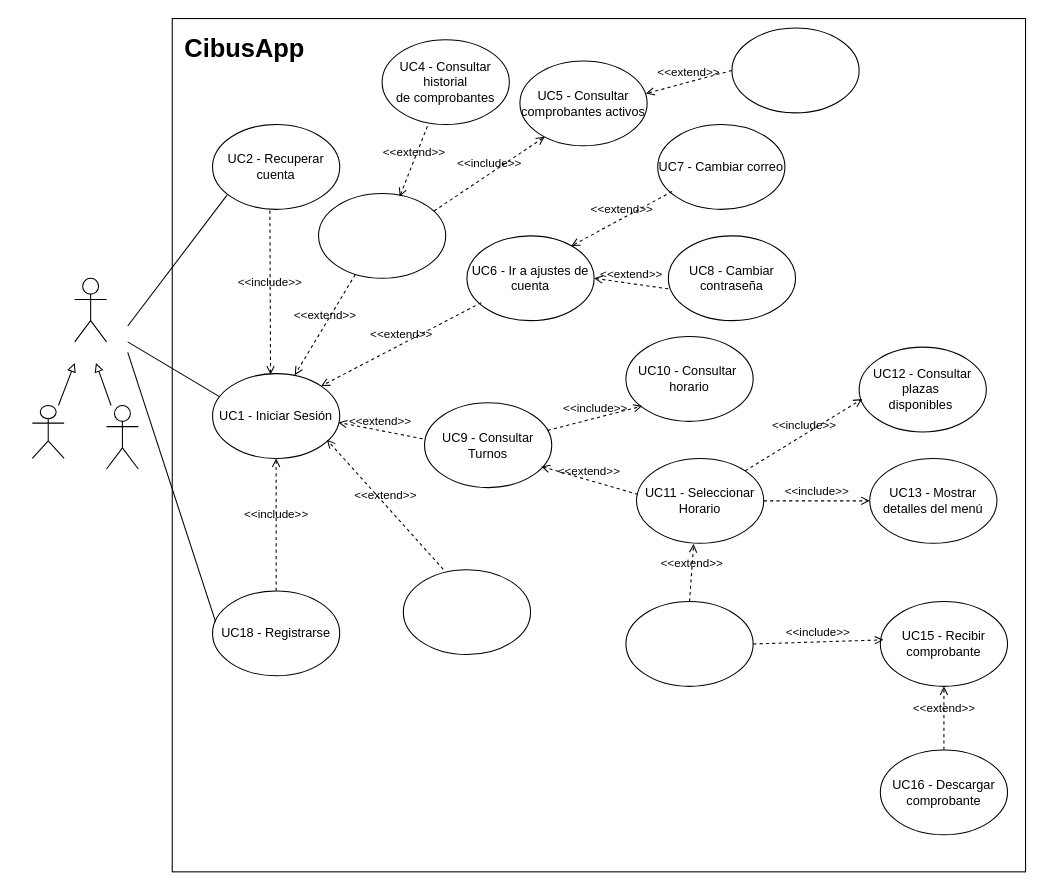
This 1044x890 diagram has some shape labels left out. Here are the shapes that lost their labels. From the top down, the centre of each, then its label:
the point at 795,70: UC 19 - Cancelar Solicitud activa
the point at 381,235: UC3 - Consultar comprobantes
the point at 90,309: Usuario
the point at 47,431: Estudiante
the point at 121,436: Empleado
the point at 466,612: UC17 - Cerrar Sesión
the point at 689,643: UC14 - Solicitar reserva de turno
